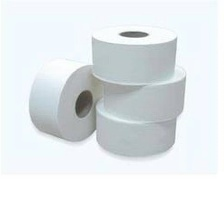tissue: (24, 52, 104, 147), (84, 19, 181, 89), (89, 91, 181, 160), (98, 59, 191, 126)
